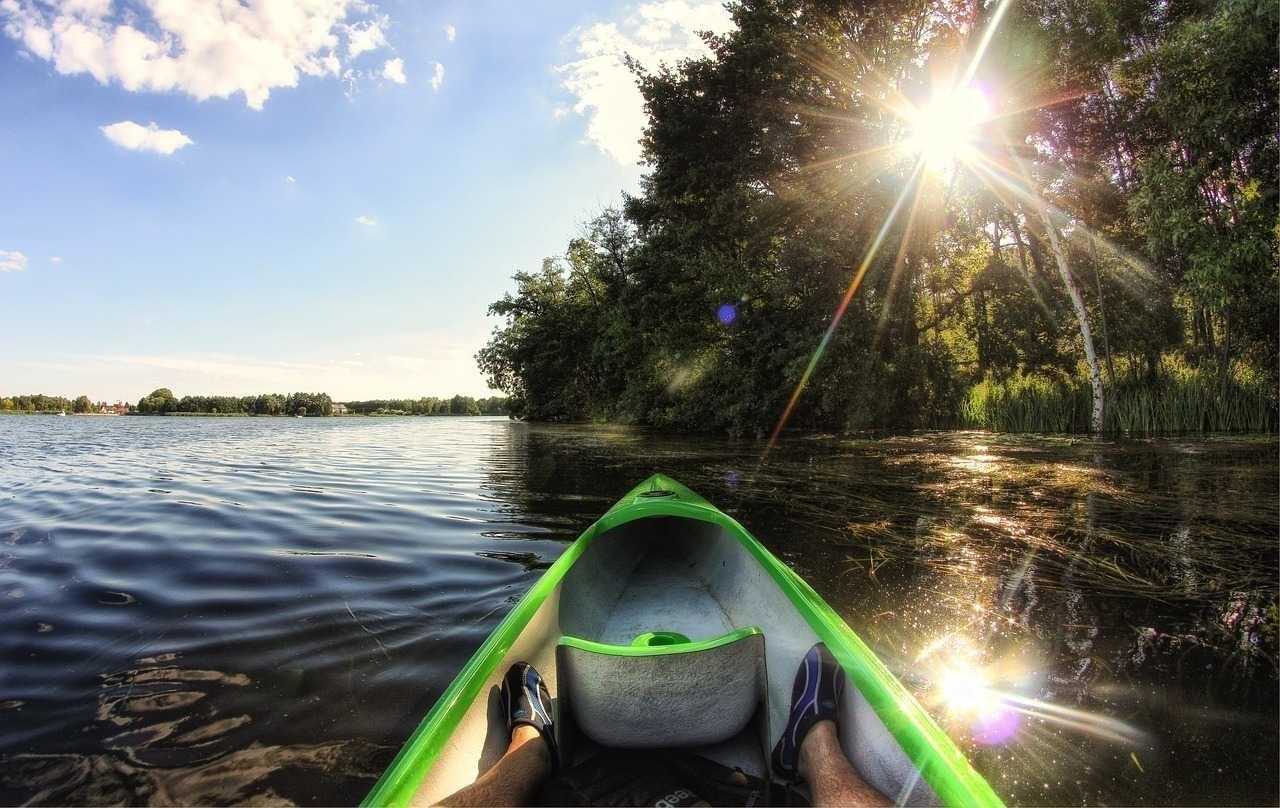kayak: (360, 471, 1007, 802)
